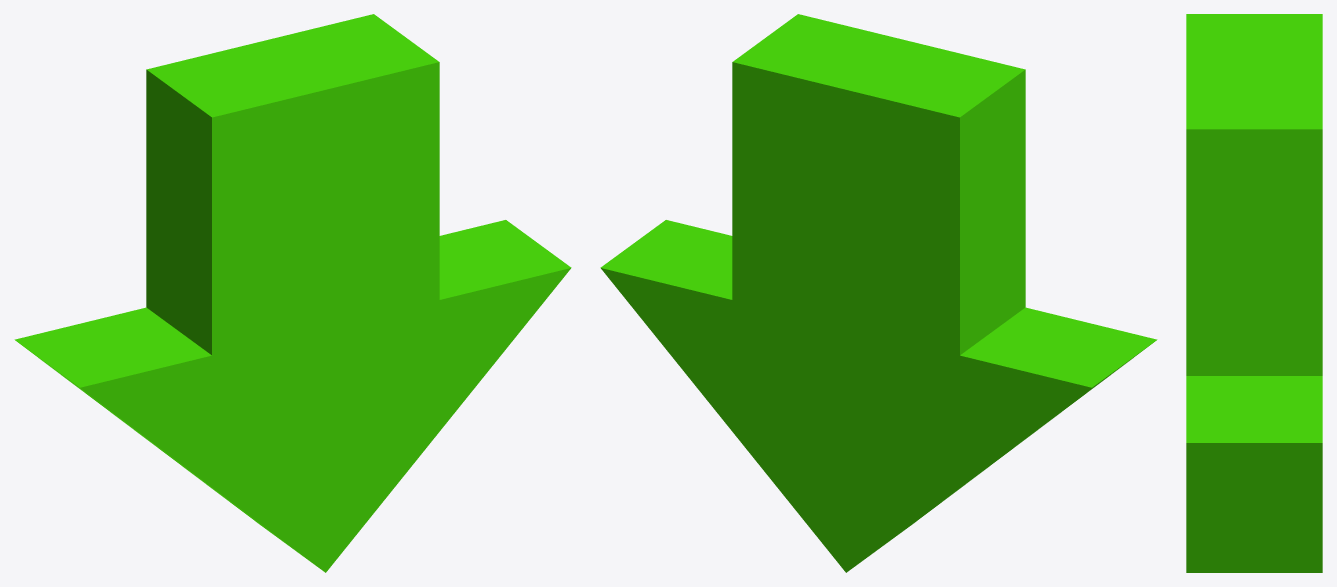
The model's file is ArrowIcon.fbx.
3 views of the same model, side by side, from view 1: azimuth 30°, elevation 25°; view 2: azimuth 150°, elevation 25°; view 3: azimuth 270°, elevation 25° (orthographic). The views are drawn at different scales.
Visible parts, largest first — view 1: Plane.001; view 2: Plane.001; view 3: Plane.001.
Boxes of the visible parts, x1=… form: Plane.001: x1=14, y1=14, x2=571, y2=572; Plane.001: x1=600, y1=14, x2=1157, y2=572; Plane.001: x1=1186, y1=14, x2=1322, y2=572.
Size of the model in its own units: 432 by 406 by 100.
